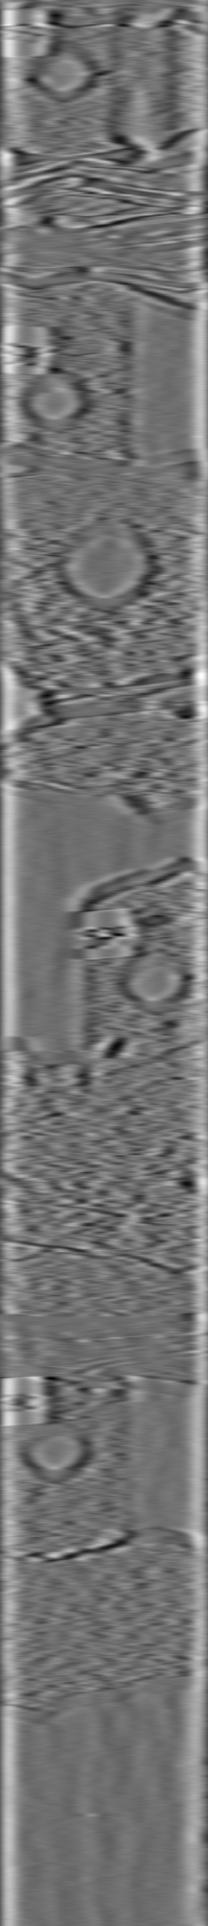hplug: (117, 945, 194, 1024), (18, 1413, 95, 1490), (18, 364, 95, 439), (23, 34, 98, 104)
scal: (49, 512, 162, 620)
vplug: (114, 274, 206, 490), (9, 908, 107, 1104), (117, 1362, 201, 1556), (103, 9, 185, 154)
